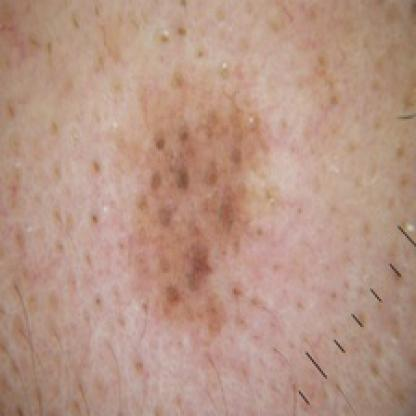malignant: (121, 69, 278, 328)
